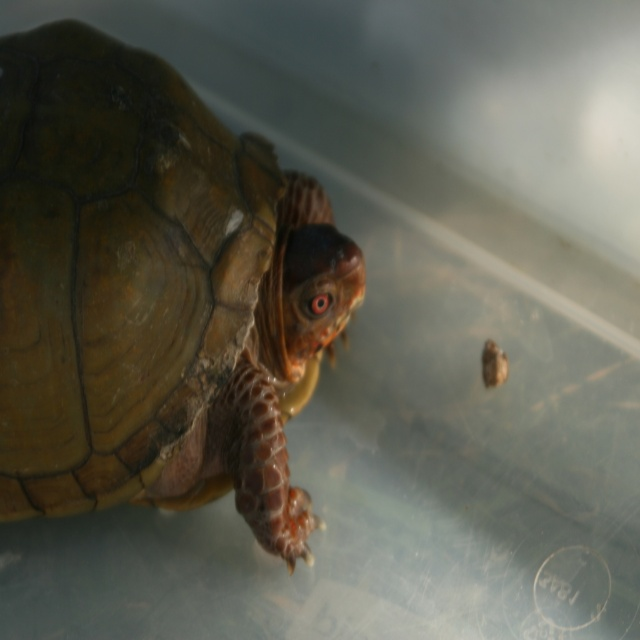Sea turtle: (0, 16, 367, 581)
